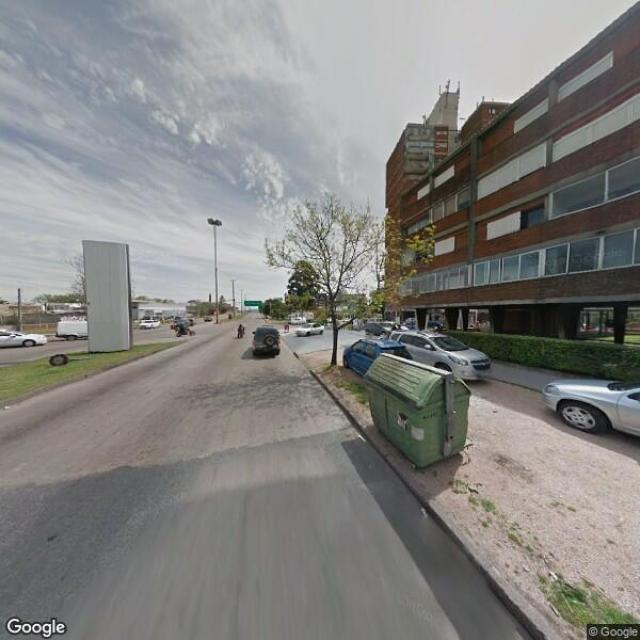garbage container: (352, 350, 479, 480)
